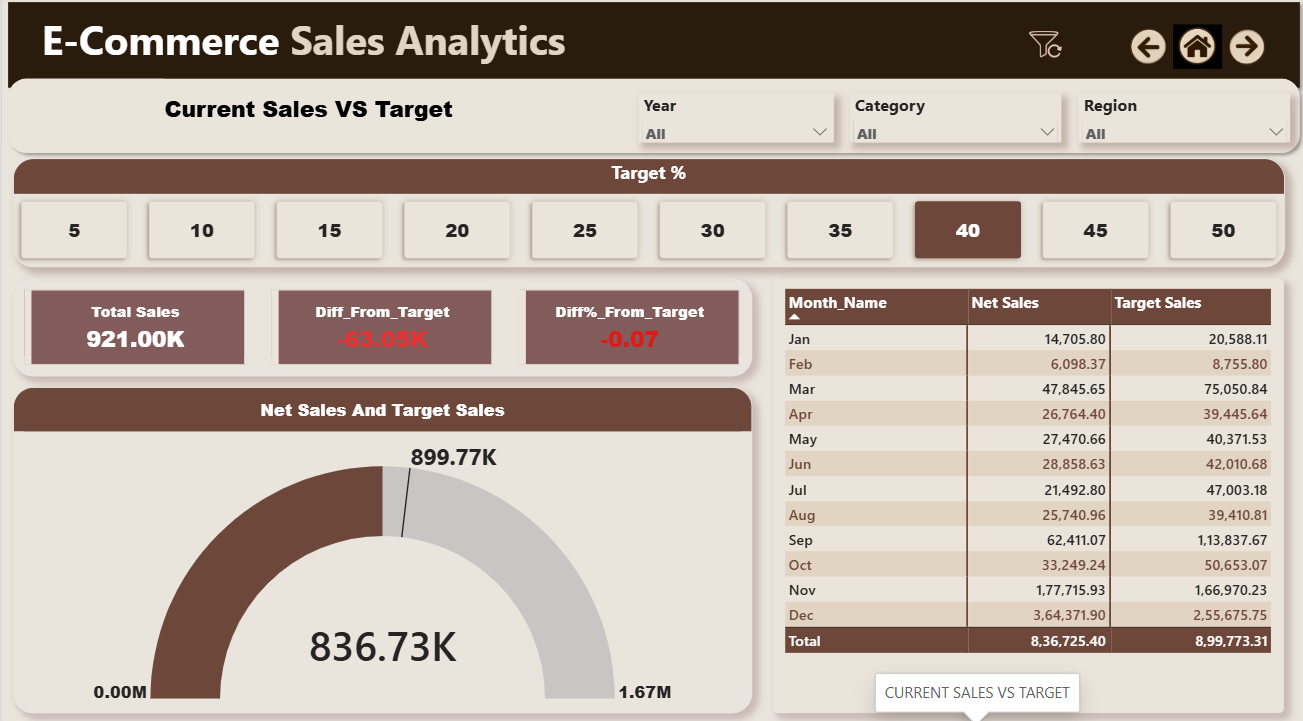

Layout of this report page (visuals, bound fields, positions):
{"tool":"powerbi","page":{"name":"CURRENT SALES VS TARGET","canvas":[1920,1080],"ordinal":5},"visuals":[{"type":"shape","box":[0,0,1920,144],"z":0},{"type":"textbox","box":[0,24,888,120],"z":1000},{"type":"image","box":[1652.4,38,72,72],"z":2000},{"type":"image","box":[1724.4,38,72,72],"z":3000},{"type":"shape","box":[0,112,1920,128],"z":4000},{"type":"slicer","fields":{"Values":["Region_Data.Region"]},"box":[1584,144,312,72],"z":5000},{"type":"slicer","fields":{"Values":["Calender.Year"]},"box":[936,144,288,72],"z":6000},{"type":"slicer","fields":{"Values":["Product_Data.Category"]},"box":[1248,144,312,72],"z":7000},{"type":"textbox","box":[240,144,504,72],"z":8000},{"type":"gauge","title":"Net Sales And Target Sales","fields":{"TargetValue":["All_Measures.Target Sales"],"Y":["All_Measures.Net Sales"]},"box":[16,576,1088,480],"z":9000},{"type":"tableEx","title":"Total Profit By Region","fields":{"Values":["Calender.Month_Name","All_Measures.Net Sales","All_Measures.Target Sales"]},"box":[1136,416,752,640],"z":10000},{"type":"advancedSlicerVisual","title":"Target %","fields":{"Values":["Target %.Target %"]},"box":[16,240,1872,160],"z":11000},{"type":"cardVisual","title":"Moving Average Sales by Day","fields":{"Data":["All_Measures.Total Sales","All_Measures.Diff_From_Target","All_Measures.Diff%_From_Target"]},"box":[16,416,1088,144],"z":12000},{"type":"image","box":[1488,32,96,80],"z":13000},{"type":"image","box":[1796.4,38,72,72],"z":14000}]}

Visuals, with their boxes in screenshot pixels (x1, y1, x2, y2), scaled from the page's 1920x1080 canvas onto the 1303x721 screenshot:
shape: 0:0:1302:96
textbox: 0:16:603:96
image: 1121:25:1170:73
image: 1170:25:1219:73
shape: 0:75:1302:160
slicer - Region_Data.Region: 1075:96:1287:144
slicer - Calender.Year: 635:96:831:144
slicer - Product_Data.Category: 847:96:1059:144
textbox: 163:96:505:144
"Net Sales And Target Sales" gauge: 11:385:749:705
"Total Profit By Region" tableEx: 771:278:1281:705
"Target %" advancedSlicerVisual: 11:160:1281:267
"Moving Average Sales by Day" cardVisual: 11:278:749:374
image: 1010:21:1075:75
image: 1219:25:1268:73
